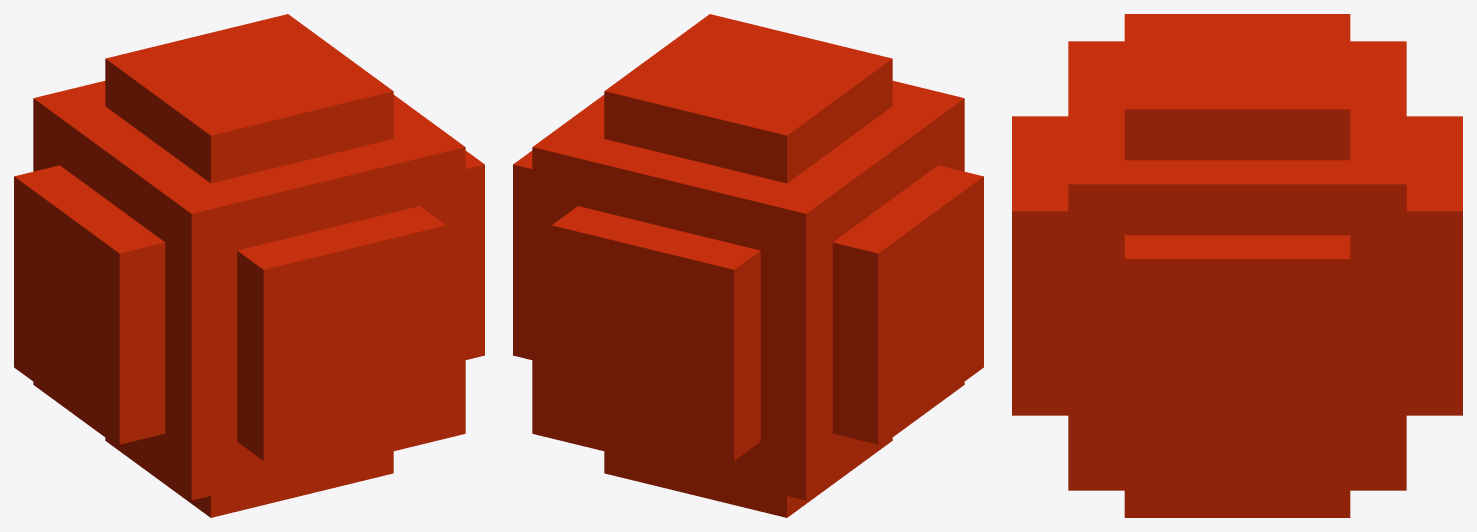
Rendered from proyectil_trampa.dae.
The picture shows the model from 3 angles, left to right: view 1: azimuth 30°, elevation 25°; view 2: azimuth 150°, elevation 25°; view 3: azimuth 270°, elevation 25°; orthographic projection. The views are drawn at different scales.
Parts seen in each view (by area): view 1: proyectil_trampa; view 2: proyectil_trampa; view 3: proyectil_trampa.
Boxes of the visible parts, x1,y1,x2,y2 form: proyectil_trampa: (14, 14, 484, 517); proyectil_trampa: (513, 14, 983, 517); proyectil_trampa: (1012, 14, 1462, 517).
Bounding box in the file's own units: 8 × 8 × 8.
Materials: 1 (1 with a texture image).
